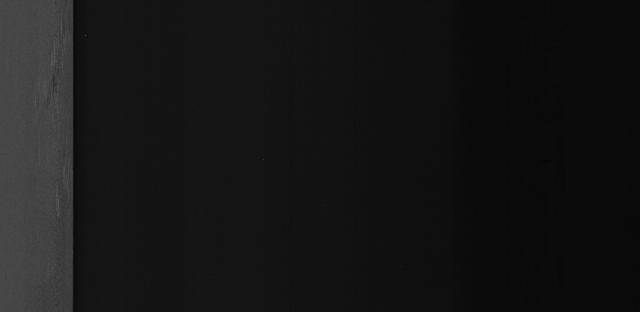silk_spot: (18, 38, 65, 132)
